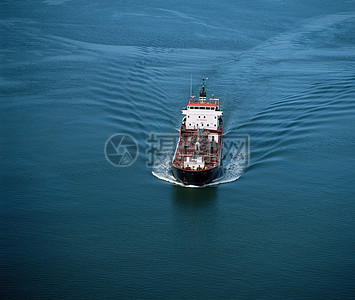Cargoship: (166, 75, 225, 188)
